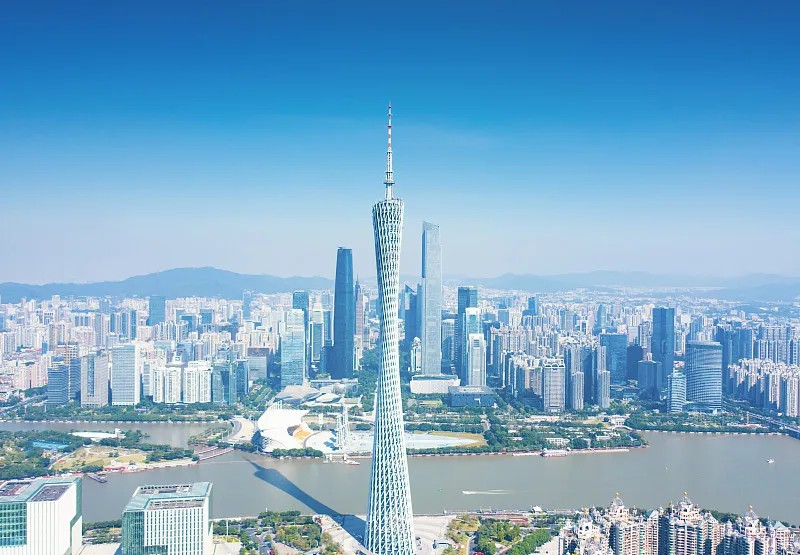Canton: (367, 101, 420, 555)
